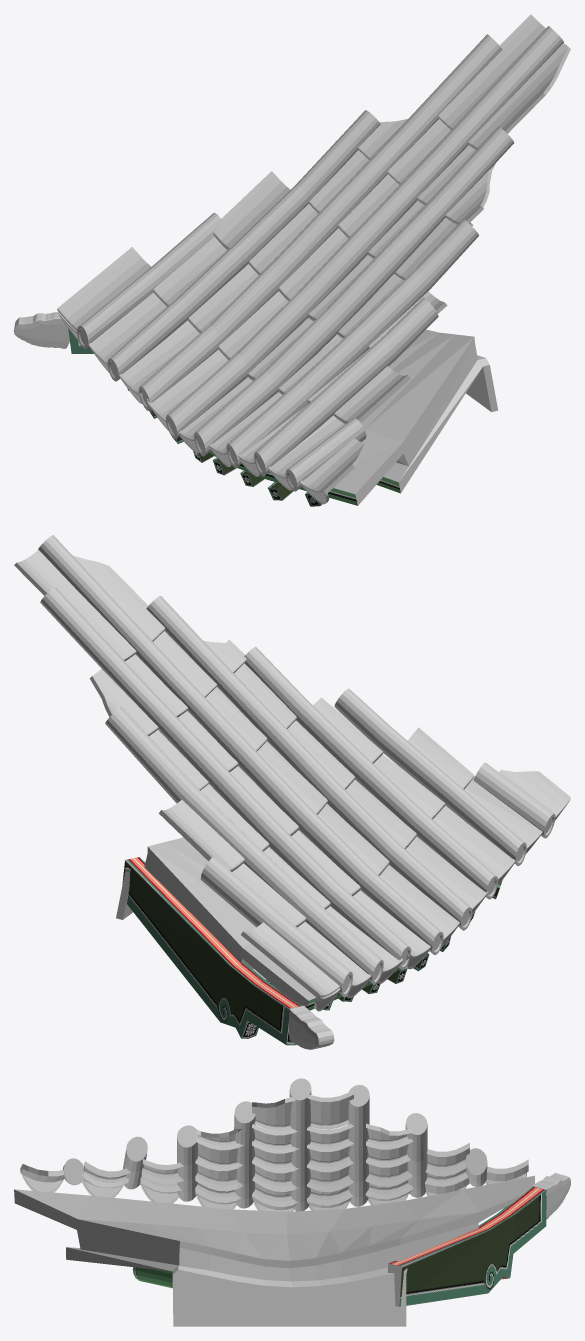
File: SM_Roof_39.fbx
3 renders of one model, top to bottom at view 1: azimuth 30°, elevation 25°; view 2: azimuth 150°, elevation 25°; view 3: azimuth 270°, elevation 25°, orthographic. The views are drawn at different scales.
Visible parts, largest first — view 1: SM_Roof_39_LOD0; view 2: SM_Roof_39_LOD0; view 3: SM_Roof_39_LOD0.
Boxes of the visible parts, <box> form: SM_Roof_39_LOD0: <box>14,14,570,506</box>; SM_Roof_39_LOD0: <box>14,535,570,1049</box>; SM_Roof_39_LOD0: <box>14,1078,570,1326</box>.
Bounding box in the file's own units: 388 × 450 × 312.
